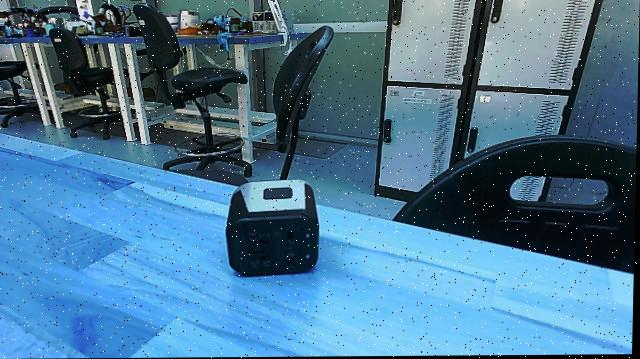adapter: (223, 178, 325, 277)
